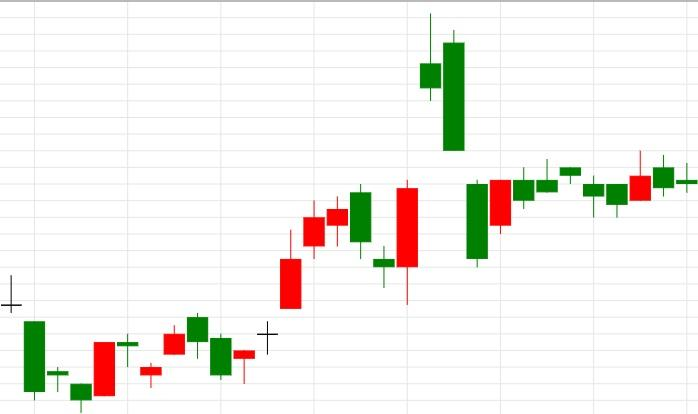bearish_engulfing_fall: (233, 184, 372, 384)
